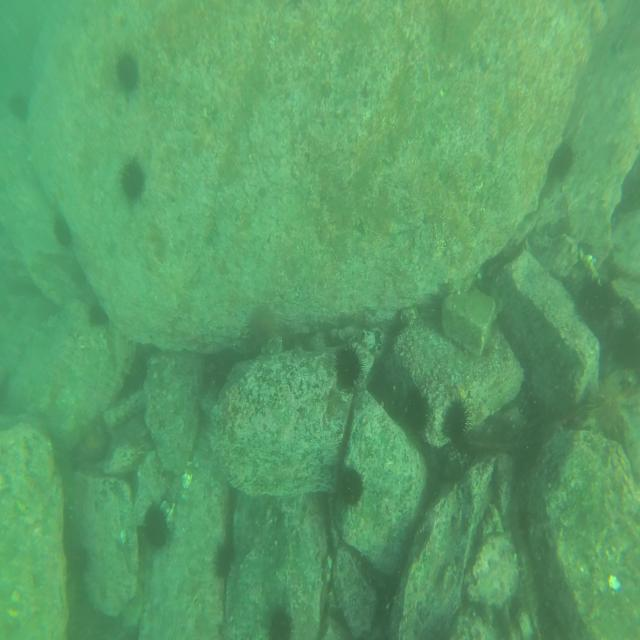echinus: (590, 372, 624, 436), (443, 396, 473, 452), (579, 270, 611, 322), (337, 343, 365, 395), (119, 153, 146, 203), (546, 140, 575, 184), (337, 462, 366, 506), (115, 48, 140, 94), (141, 508, 168, 549), (407, 390, 429, 433), (266, 606, 294, 639), (214, 543, 234, 583), (88, 300, 112, 328), (52, 217, 73, 247), (8, 92, 30, 120)
